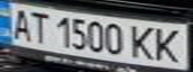0: (103, 20, 130, 56), (84, 19, 106, 54)
1: (51, 14, 72, 48)
5: (66, 16, 87, 51)
A: (6, 6, 36, 40)
K: (148, 25, 187, 64), (124, 22, 160, 61)
T: (24, 9, 54, 44)
